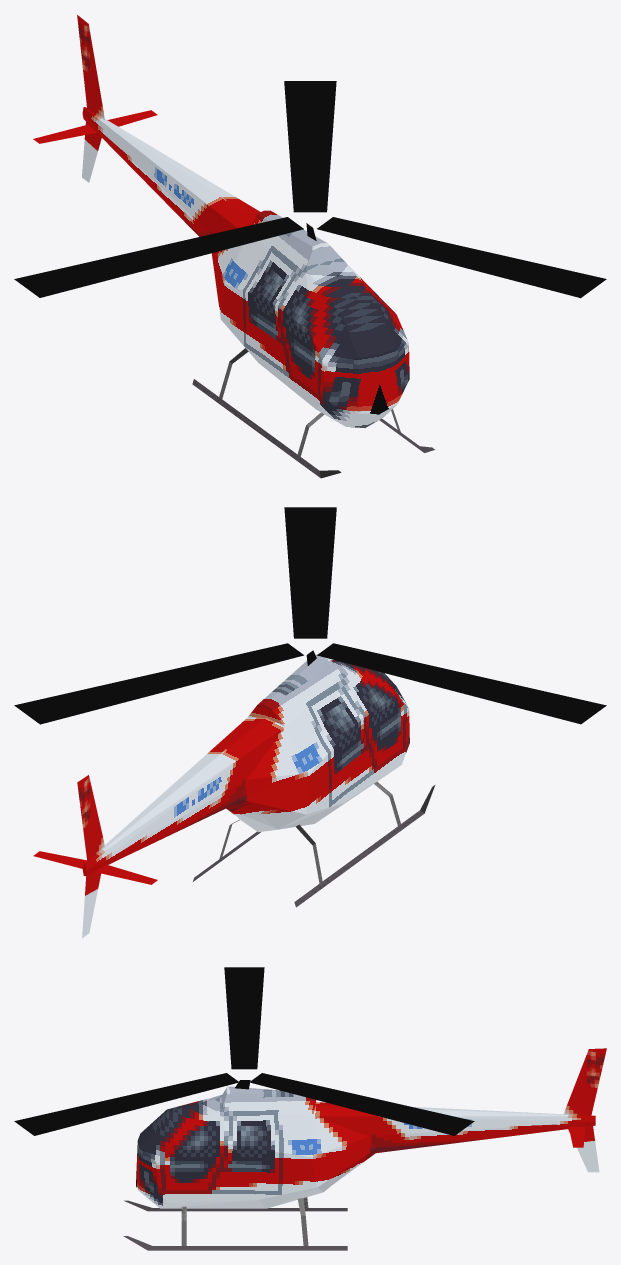
File: special-188.glb
The picture shows the model from 3 angles, top to bottom: view 1: azimuth 30°, elevation 25°; view 2: azimuth 150°, elevation 25°; view 3: azimuth 270°, elevation 25°; orthographic projection. The views are drawn at different scales.
Visible parts, largest first — view 1: special-188; view 2: special-188; view 3: special-188.
Part boxes in pixels (x1,y1,x2,y2): special-188: (14,15,606,478); special-188: (14,507,606,938); special-188: (14,967,606,1250).
Bounding box in the file's own units: 1.57 × 0.792 × 2.33.
Materials: 6 (1 with a texture image).
